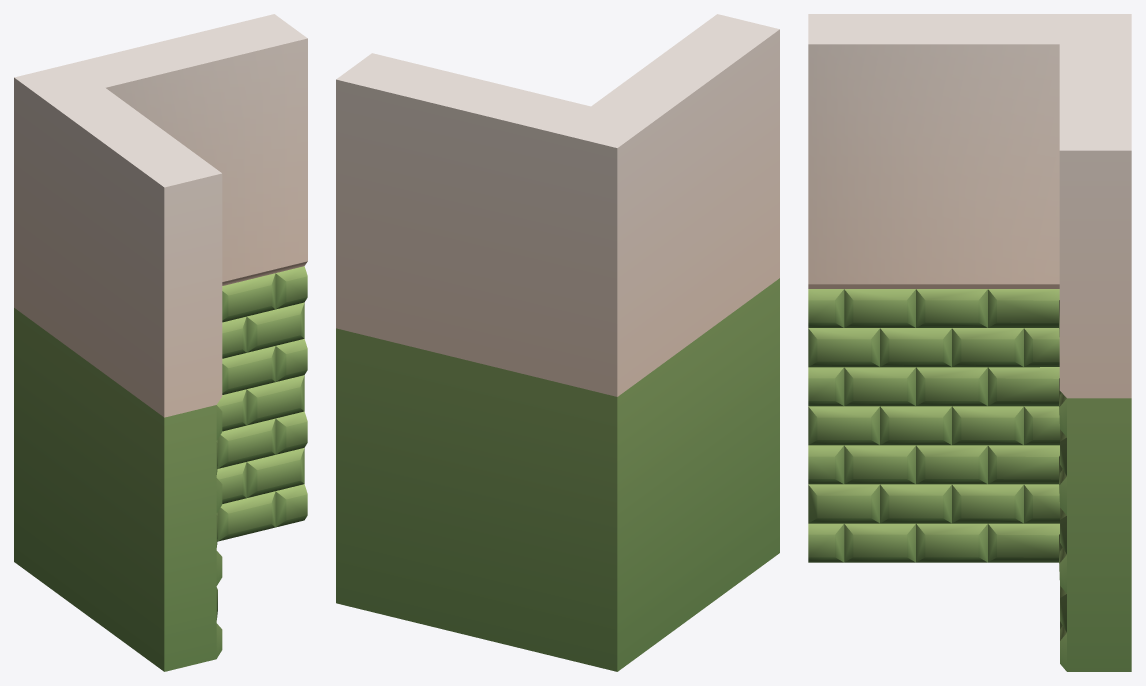
File: Wall Tiles Kitchen-uYl2trxmns.glb
The picture shows the model from 3 angles, left to right: view 1: azimuth 30°, elevation 25°; view 2: azimuth 150°, elevation 25°; view 3: azimuth 270°, elevation 25°; orthographic projection. The views are drawn at different scales.
Parts seen in each view (by area): view 1: wall_tiles_kitchen_corner_inner; view 2: wall_tiles_kitchen_corner_inner; view 3: wall_tiles_kitchen_corner_inner.
Boxes of the visible parts, <box> form: wall_tiles_kitchen_corner_inner: <box>14,14,307,671</box>; wall_tiles_kitchen_corner_inner: <box>336,14,779,671</box>; wall_tiles_kitchen_corner_inner: <box>808,14,1131,671</box>.
Bounding box in the file's own units: 2.25 × 4 × 2.25.
Materials: 1 (1 with a texture image).
